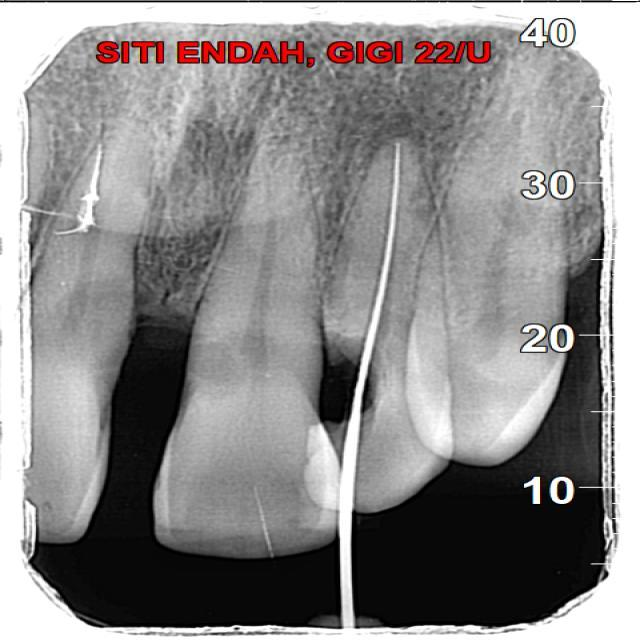individual-tooth-8tto: (160, 150, 342, 558), (405, 63, 570, 462), (309, 138, 453, 510)
